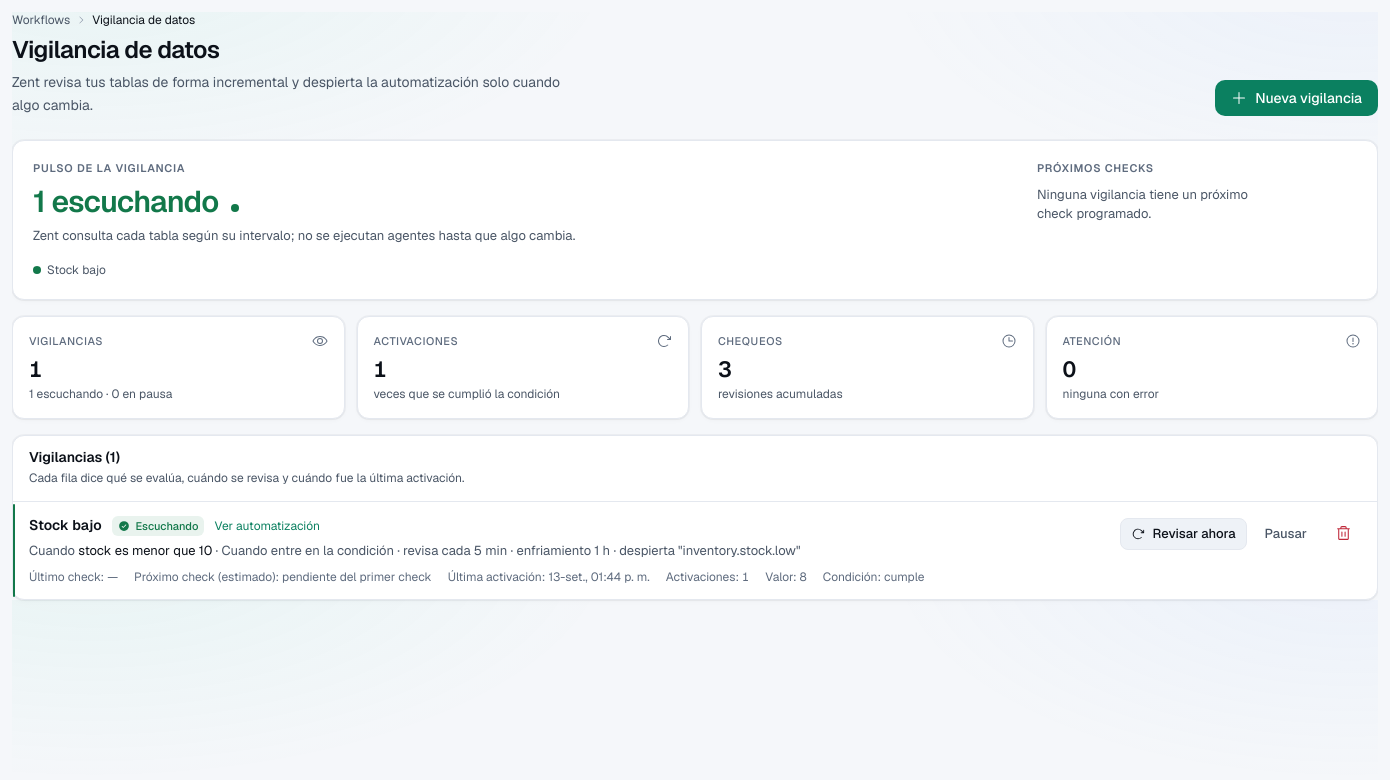
Test case: WatchersPage › Revisar ahora muestra el motivo humano
Click the button with test id "watcher-check-w1".
click(1183, 534)  # box 1120,518 -> 1247,550
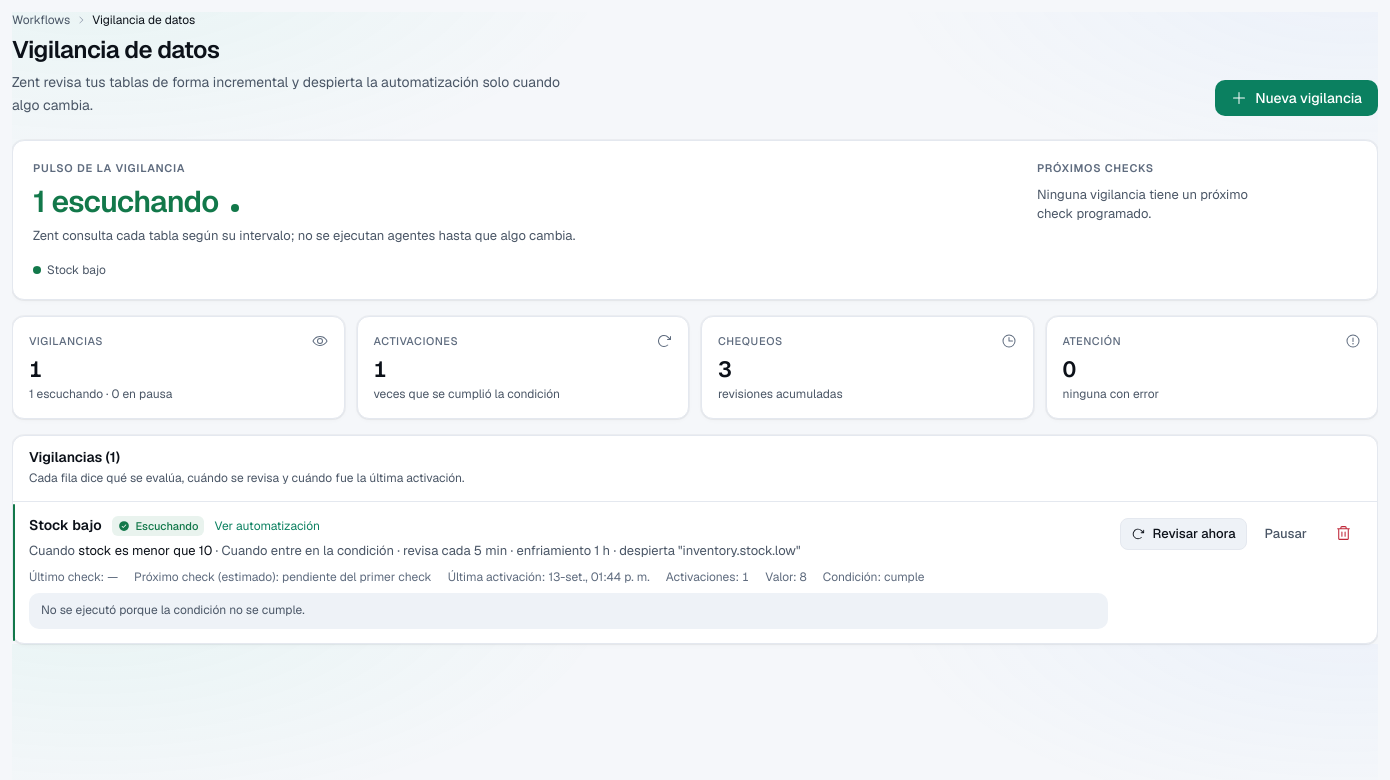
Now the text with test id "watcher-outcome" reads "No se ejecutó porque la condición no se cumple.", box 41,602 -> 305,618
